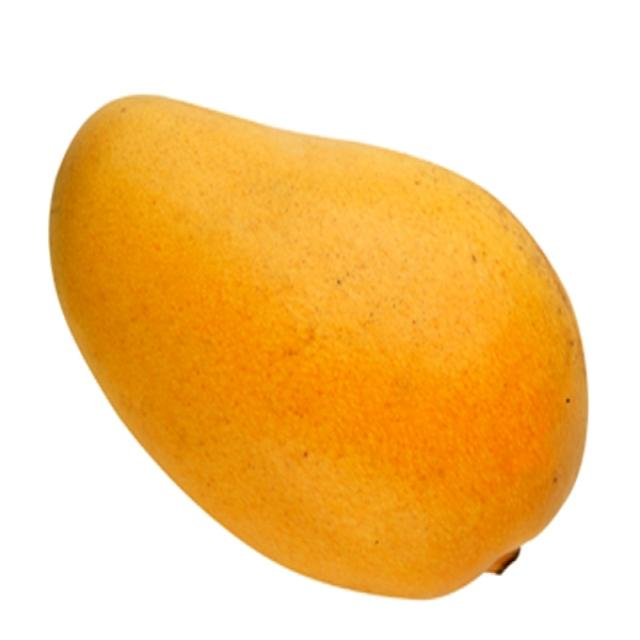mango: (36, 72, 604, 637)
